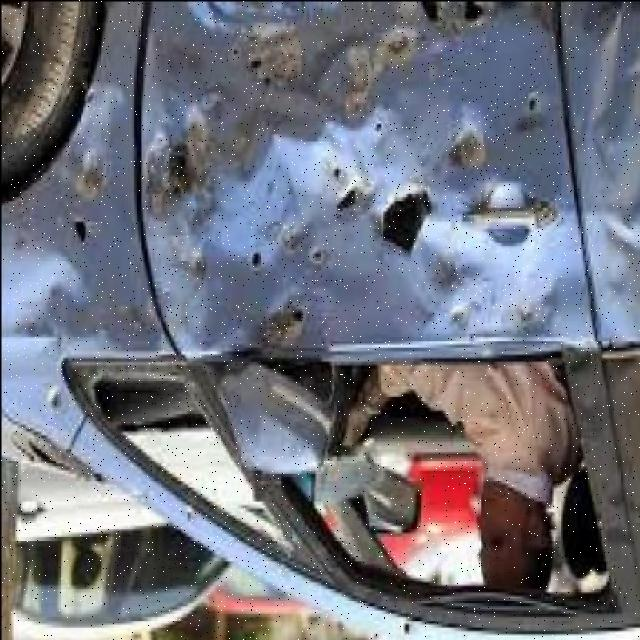damage: (4, 6, 637, 423)
